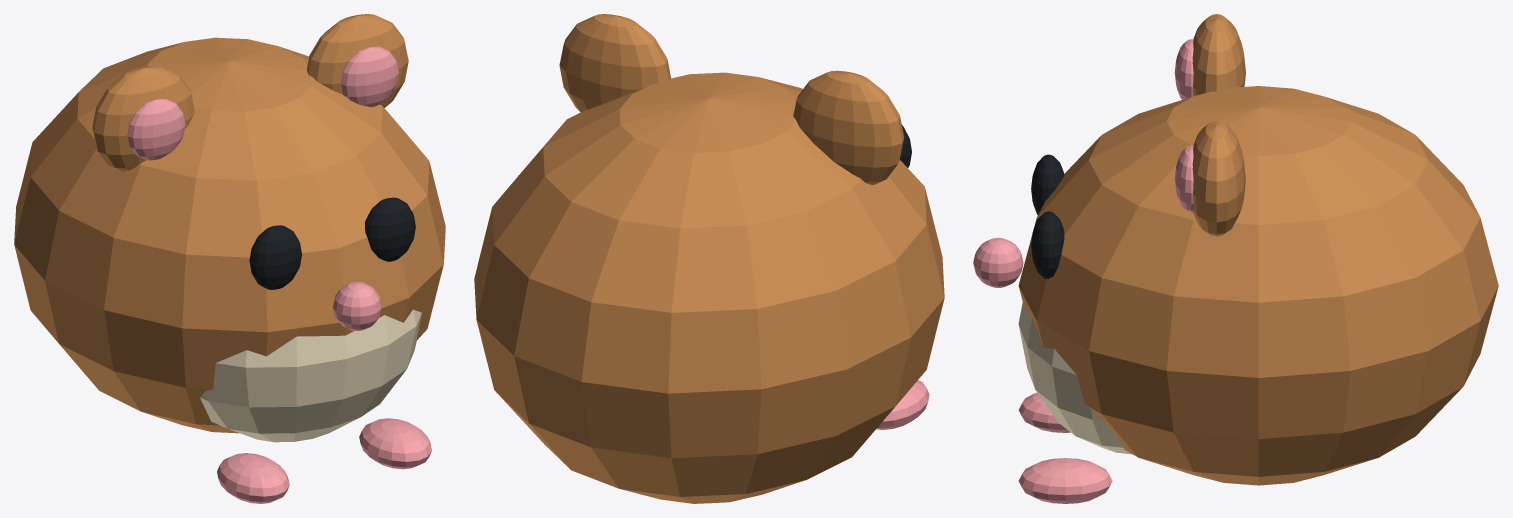
The model's file is hamster-lod0.glb.
The picture shows the model from 3 angles, left to right: view 1: azimuth 30°, elevation 25°; view 2: azimuth 150°, elevation 25°; view 3: azimuth 270°, elevation 25°; orthographic projection. The views are drawn at different scales.
Visible parts, largest first — view 1: hamster; view 2: hamster; view 3: hamster.
Part boxes in pixels (left/top/right/bottom): hamster: left=14, top=14, right=445, bottom=503; hamster: left=474, top=14, right=944, bottom=503; hamster: left=973, top=14, right=1498, bottom=503.
Bounding box in the file's own units: 0.52 × 0.514 × 0.626.
